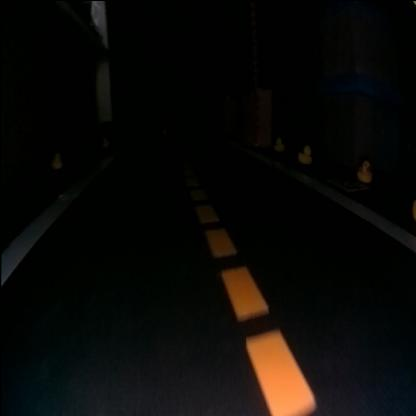Duckie: (357, 158, 371, 180), (298, 143, 310, 162), (52, 150, 62, 167), (276, 136, 284, 149)
QR code: (331, 177, 369, 190)
